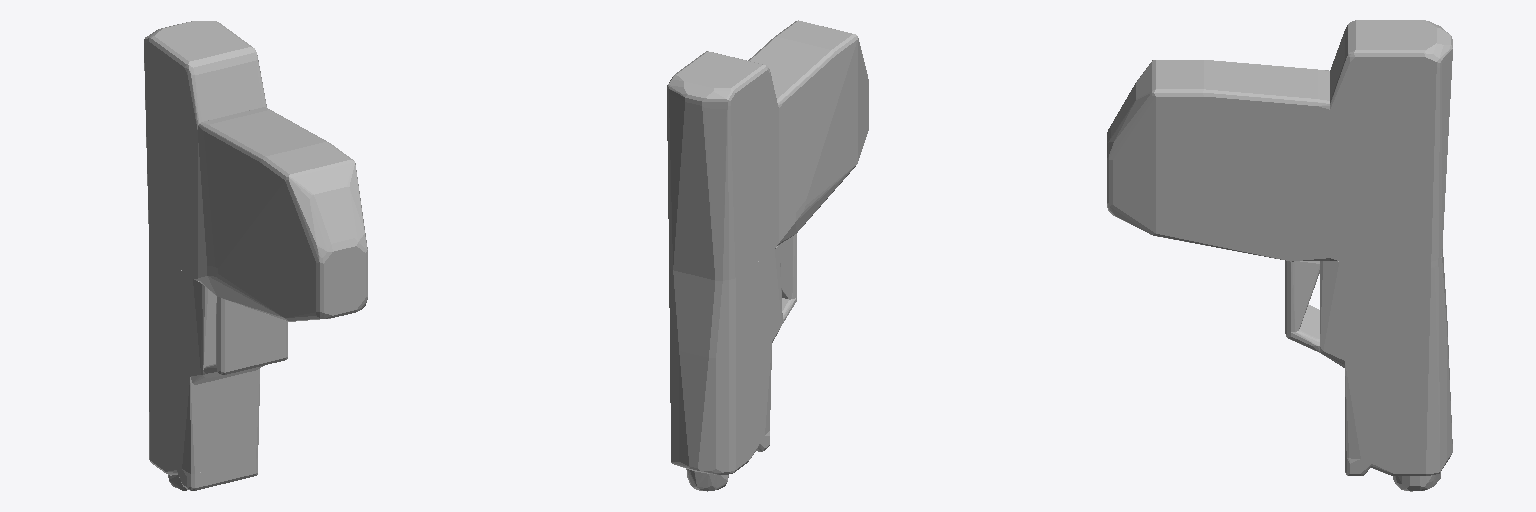
robot.urdf — root:
<?xml version="1.0"?>
<robot name="root">
  <link name="base_link">
    <visual>
      <origin xyz="0 0 0" rpy="0 0 0" />
      <geometry>
        <mesh filename="../meshes/unidex_core_pistol-d965eb9091d180245f91354f947d2313_006.obj" scale="1.0000E+00 1.0000E+00 1.0000E+00" />
      </geometry>
      <material name="">
        <color rgba="7.50E-01 7.50E-01 7.50E-01 1" />
      </material>
    </visual>
    <collision>
      <origin xyz="0 0 0" rpy="0 0 0" />
      <geometry>
        <mesh filename="../meshes/unidex_core_pistol-d965eb9091d180245f91354f947d2313_006.obj" scale="1.0000E+00 1.0000E+00 1.0000E+00" />
      </geometry>
    </collision>
  </link>
</robot>

--- What the picture shows (computed from the rendered views, not written in the file) ---
Views: 3 orthographic renders of the robot side by side, from view 1: azimuth 30°, elevation 25°; view 2: azimuth 150°, elevation 25°; view 3: azimuth 270°, elevation 25°.
Robot: root — 1 links, 0 joints (none); root link base_link; default pose: every joint at zero.
Visible links, largest first — view 1: base_link; view 2: base_link; view 3: base_link.
Link boxes in pixels (x1,y1,x2,y2): base_link: (144, 21, 367, 490); base_link: (667, 20, 868, 491); base_link: (1107, 20, 1452, 491).
Bounding box of the posed robot: 0.017 × 0.068 × 0.0977 m (x, y, z).
1 mesh visuals loaded from 1 distinct referenced files (1 OBJ).
